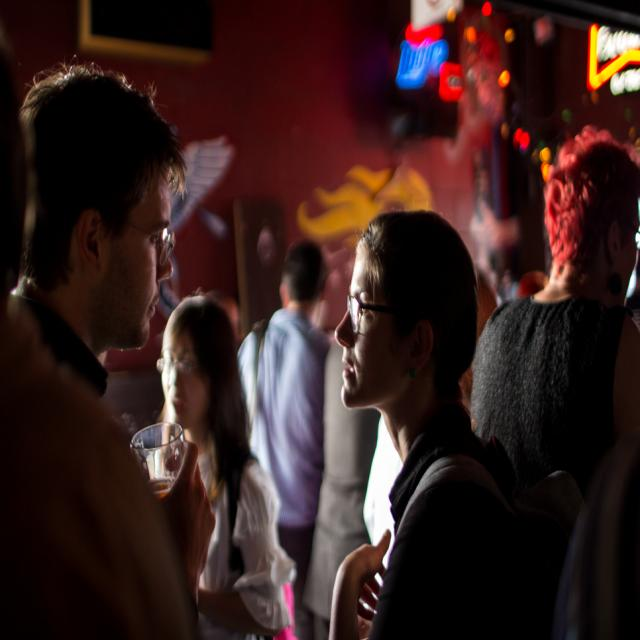Glasses: (333, 297, 407, 348), (102, 216, 178, 264), (155, 357, 196, 373)
